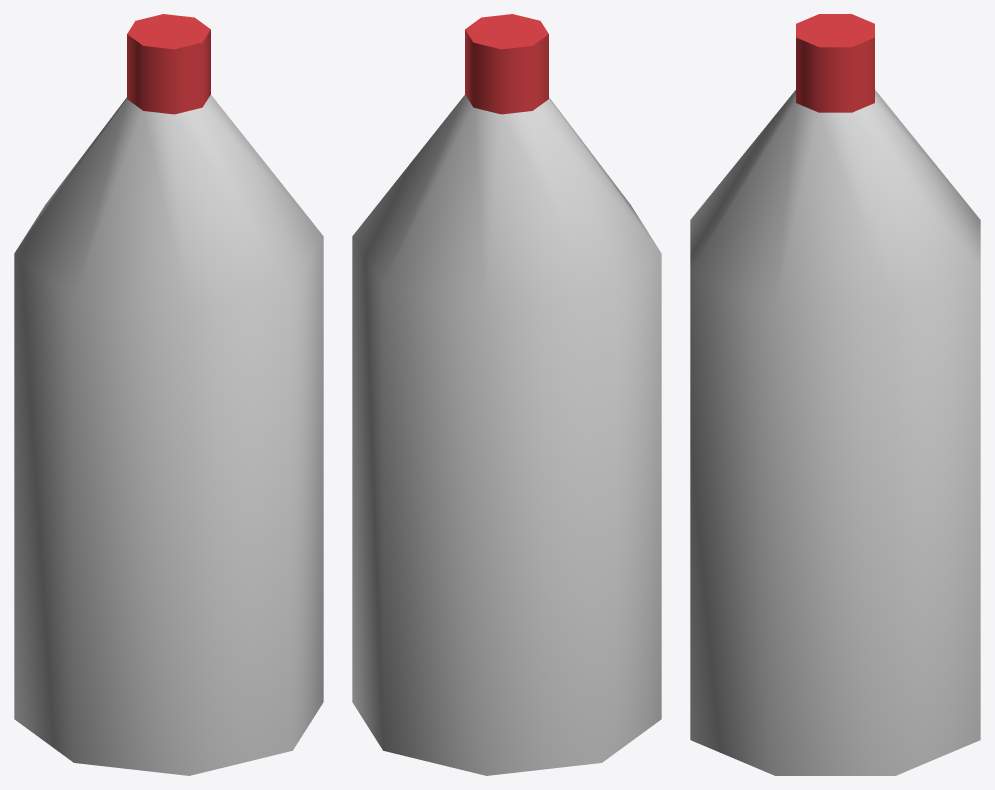
Rendered from bottle_cleaning_simple.fbx.
3 views of the same model, side by side, from view 1: azimuth 30°, elevation 25°; view 2: azimuth 150°, elevation 25°; view 3: azimuth 270°, elevation 25° (orthographic).
Parts seen in each view (by area): view 1: Bottle; view 2: Bottle; view 3: Bottle.
Part boxes in pixels (x1,y1,x2,y2): Bottle: (14, 14, 323, 775); Bottle: (352, 14, 661, 775); Bottle: (690, 14, 980, 775).
Bounding box in the file's own units: 78.52 × 204 × 78.52.
